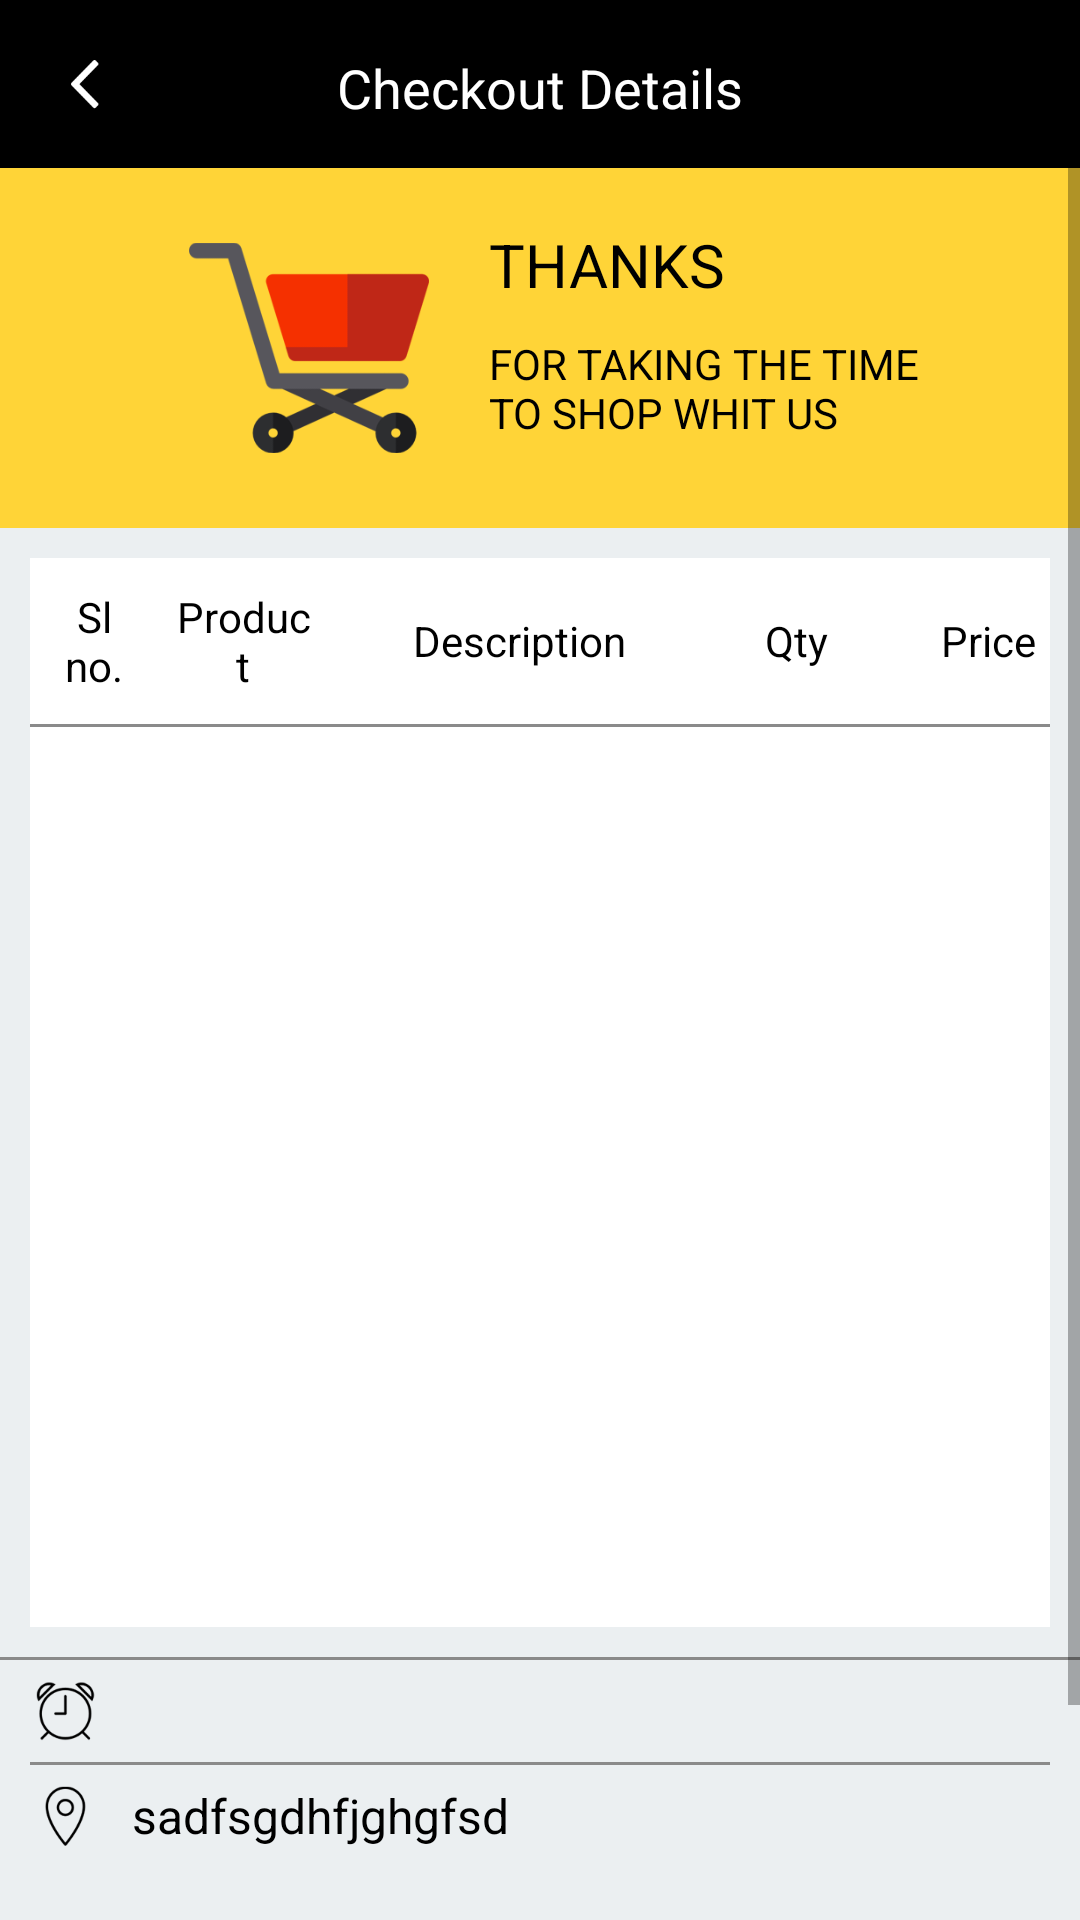

Screen size 1080*1920. Icon name, then its center in pixels as [x,y]:
back: [85,84]
cart pic: [309,348]
clock: [65,1711]
map pointer: [65,1816]
